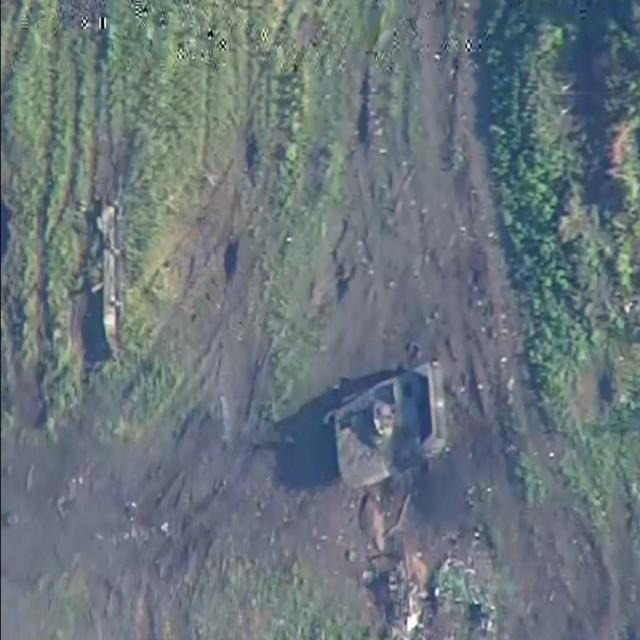AIFV: (335, 357, 450, 496)
